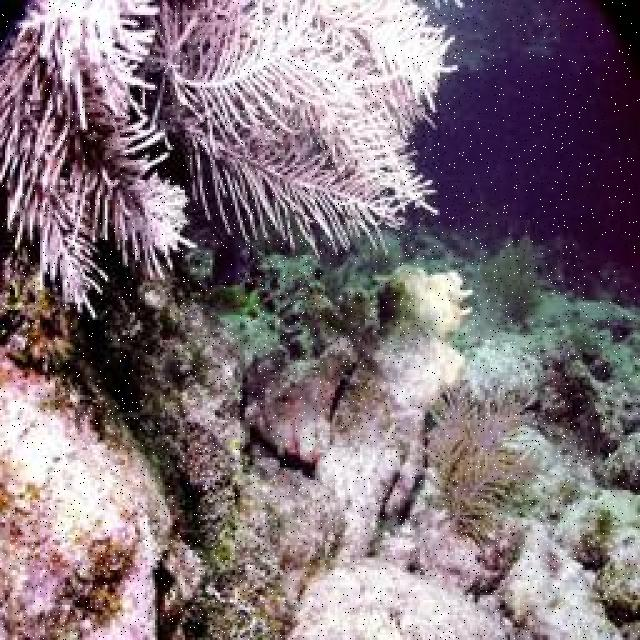aquatic plants: (0, 0, 468, 319), (423, 383, 540, 542), (484, 233, 542, 327)
sea-floor: (137, 279, 343, 638), (0, 342, 183, 638), (316, 262, 473, 572), (495, 490, 638, 638), (293, 557, 515, 638), (249, 336, 352, 459)
